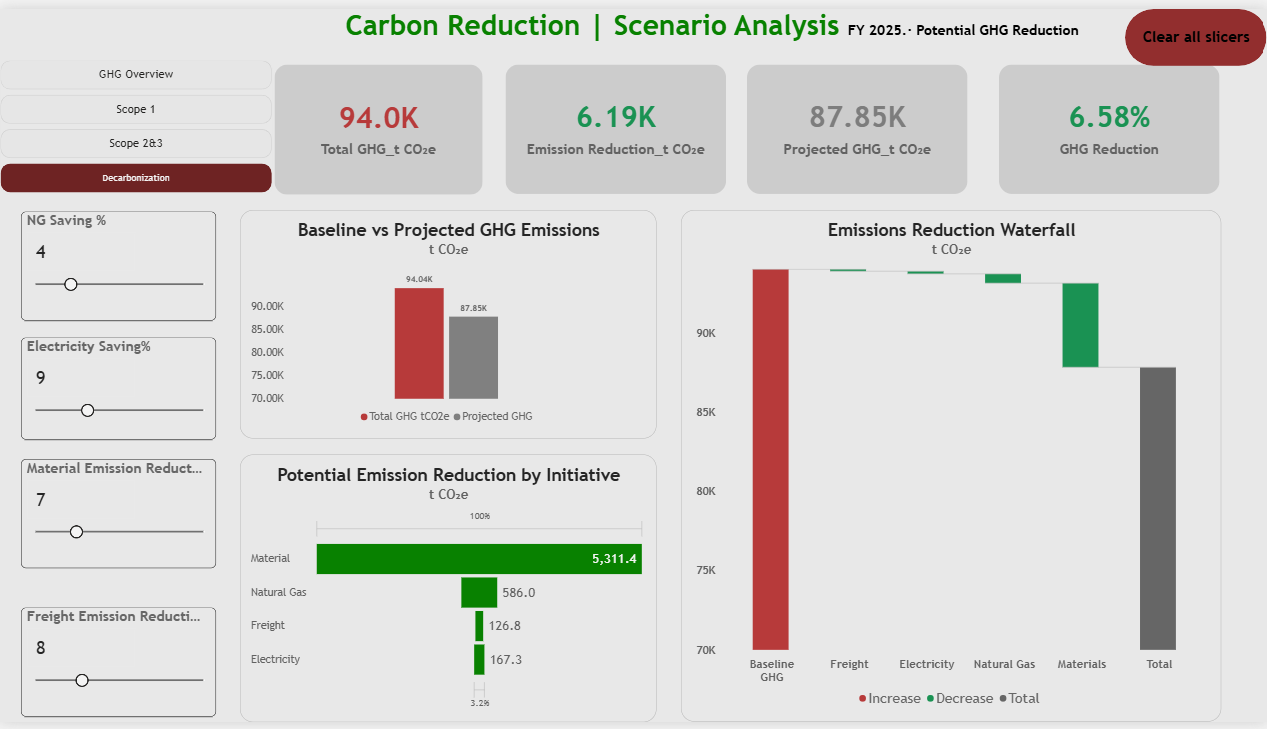

What the dashboard file says about the page in this screenshot:
{"tool":"powerbi","page":{"name":"Decarbonization","canvas":[1920,1080],"ordinal":3},"visuals":[{"type":"cardVisual","fields":{"Data":["KPI (2).Total GHG tCO2e"]},"box":[416.4,83.6,315.7,197.6],"z":0,"group":"g1"},{"type":"funnel","title":"Potential Emission Reduction by Initiative","fields":{"Y":["KPI (2).Material Saving","KPI (2).NG Saving tCO2e","KPI (2).Freight Saving","KPI (2).Electicity saving tCO2e"]},"box":[364.1,674.4,630.8,405.1],"z":0},{"type":"cardVisual","fields":{"Data":["KPI (2).Projected GHG"]},"box":[1131.8,84,334.4,196.6],"z":1000,"group":"g1"},{"type":"clusteredColumnChart","title":"Baseline vs Projected GHG Emissions","fields":{"Y":["KPI (2).Total GHG tCO2e","KPI (2).Projected GHG"]},"box":[364.1,305.1,630.8,346.2],"z":1000},{"type":"group","id":"g1","title":"Group 1","box":[416.4,83.6,1432.4,197.6],"z":3000},{"type":"cardVisual","fields":{"Data":["KPI (2).GHG Reduction %"]},"box":[1514.4,84,334.4,196.6],"z":3000,"group":"g1"},{"type":"waterfallChart","title":"Emissions Reduction Waterfall","fields":{"Category":["Waterfall_Steps.Step"],"Y":["Waterfall_Steps.Waterfall_Value"]},"box":[1030.8,305.1,817.9,774.4],"z":4000},{"type":"textbox","box":[463.3,0,1217.4,65.9],"z":5000},{"type":"actionButton","box":[1703.5,0,215.8,86.3],"z":6000},{"type":"cardVisual","fields":{"Data":["KPI (2).Total Potential Reduction tCO2e"]},"box":[765.2,84,334.4,196.6],"z":6001,"group":"g1"},{"type":"pageNavigator","box":[0,77.2,413.4,204.4],"z":7000},{"type":"slicer","fields":{"Values":["NG Saving %.NG Saving %"]},"box":[122.7,297.5,295.3,165.6],"z":9000,"group":"g3"},{"type":"slicer","fields":{"Values":["Electricity Saving.Electricity Saving"]},"box":[122.7,487.5,295.3,154.7],"z":10000,"group":"g3"},{"type":"slicer","fields":{"Values":["Material Emission Reduction %.Material Emission Reduction %"]},"box":[122.7,672.1,295.3,165.6],"z":11000,"group":"g3"},{"type":"slicer","fields":{"Values":["Freight Emission Reduction %.Freight Emission Reduction %"]},"box":[122.7,897.4,295.3,165.6],"z":12000,"group":"g3"},{"type":"group","id":"g2","title":"Group 2","box":[122.7,297.5,293,763.2],"z":12001},{"type":"group","id":"g3","title":"Group 3","box":[122.7,297.5,295.3,765.4],"z":12002,"group":"g2"}]}

Visuals, with their boxes in screenshot pixels (x1, y1, x2, y2), scaled from the page's 1920x1080 canvas onto the 1267x729 screenshot:
cardVisual - KPI (2).Total GHG tCO2e: crop(275, 56, 483, 190)
"Potential Emission Reduction by Initiative" funnel: crop(240, 455, 657, 728)
cardVisual - KPI (2).Projected GHG: crop(747, 57, 968, 189)
"Baseline vs Projected GHG Emissions" clusteredColumnChart: crop(240, 206, 657, 440)
"Group 1" group: crop(275, 56, 1220, 190)
cardVisual - KPI (2).GHG Reduction %: crop(999, 57, 1220, 189)
"Emissions Reduction Waterfall" waterfallChart: crop(680, 206, 1220, 728)
textbox: crop(306, 0, 1109, 44)
actionButton: crop(1124, 0, 1266, 58)
cardVisual - KPI (2).Total Potential Reduction tCO2e: crop(505, 57, 726, 189)
pageNavigator: crop(0, 52, 273, 190)
slicer - NG Saving %.NG Saving %: crop(81, 201, 276, 313)
slicer - Electricity Saving.Electricity Saving: crop(81, 329, 276, 433)
slicer - Material Emission Reduction %.Material Emission Reduction %: crop(81, 454, 276, 565)
slicer - Freight Emission Reduction %.Freight Emission Reduction %: crop(81, 606, 276, 718)
"Group 2" group: crop(81, 201, 274, 716)
"Group 3" group: crop(81, 201, 276, 717)
